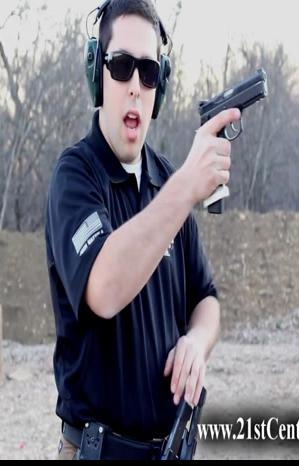pistol: (197, 67, 270, 214)
